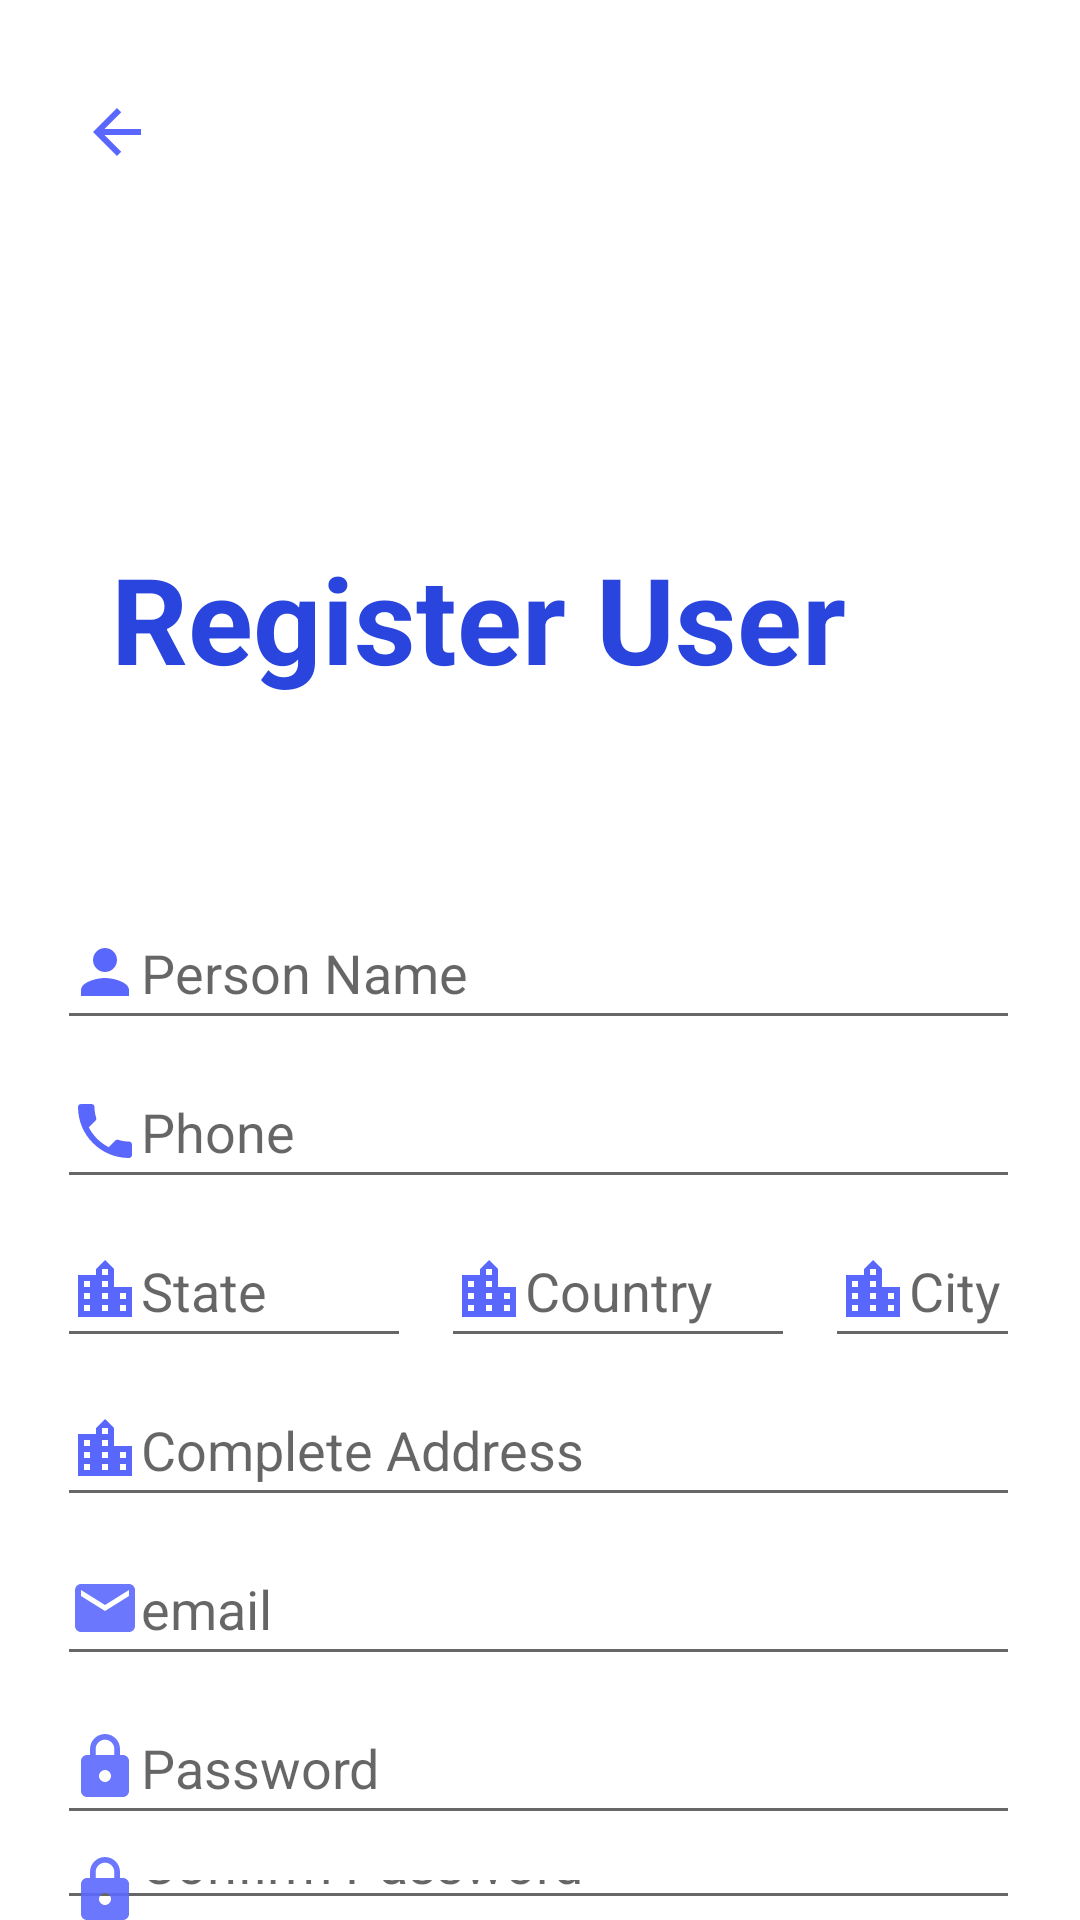

Icons on this 1080*1920 Android screen, each with the point to tap as point (x, y):
arrow back: point (117, 132)
